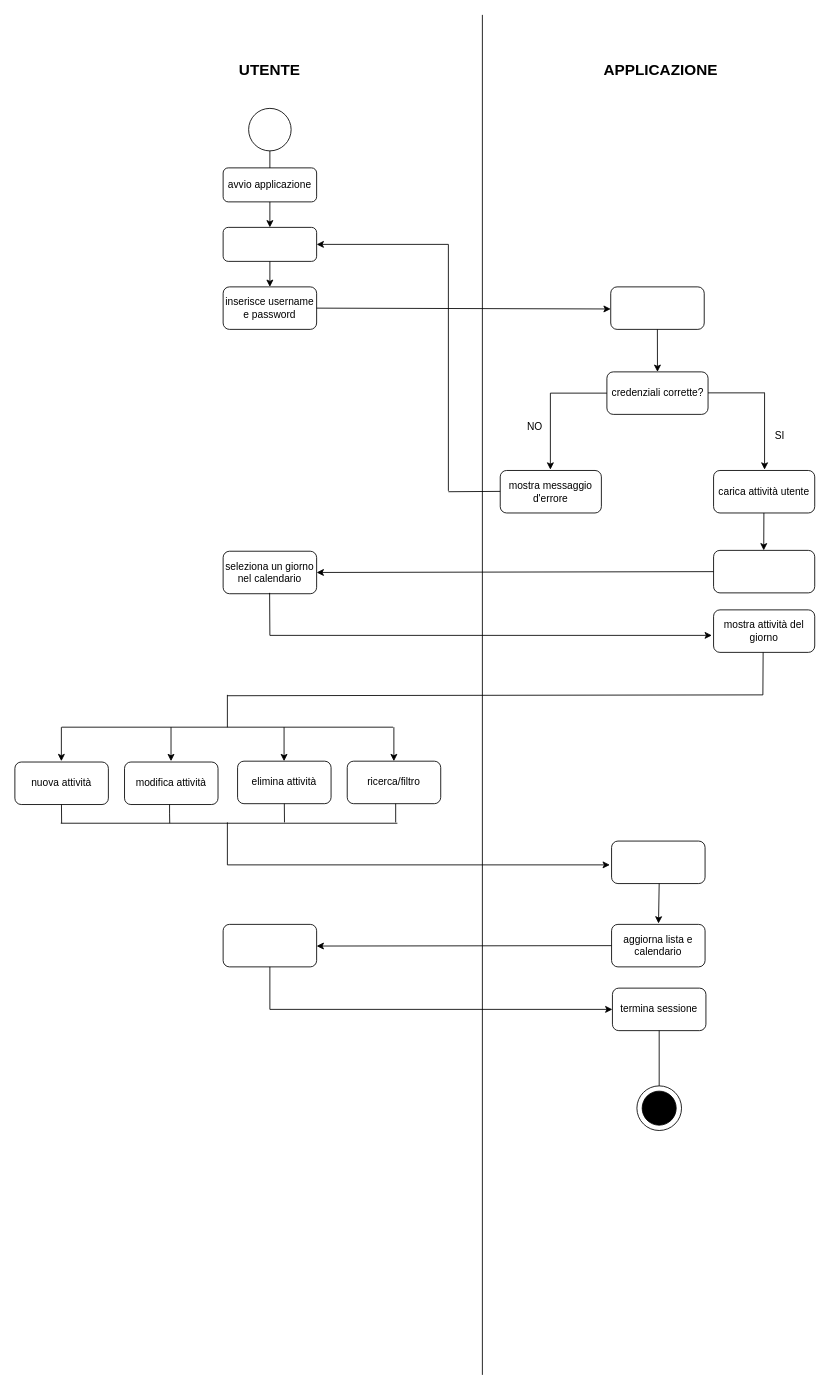
Some shapes in this 830 by 1391 pixel diagram are drawn without their labels. The centre of each missing label's shape, as x and y in pixels:
aggiorna dati attività: the point at 658,862
clicca logout: the point at 269,945
mostra calendario e lista attività: the point at 764,571
schermata home: the point at 269,244
verifica credenziali: the point at 657,307
